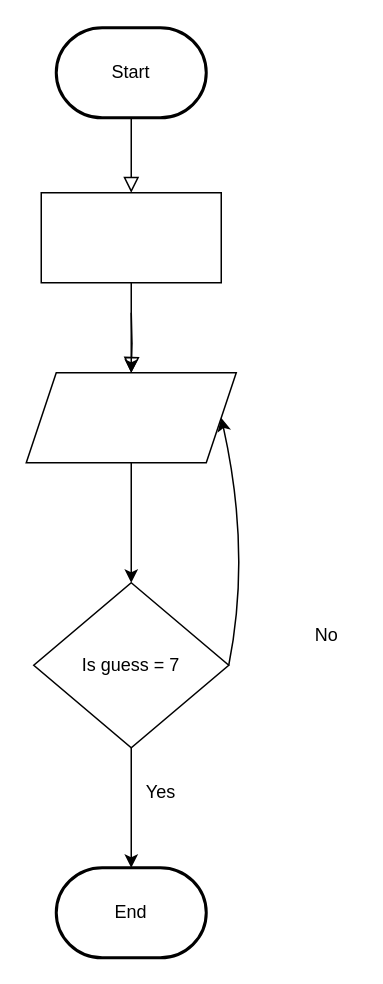
The diagram is 383 pixels wide and 984 high, and some of its shapes have lost their labels. Each missing label, with the box of its shape:
Ask user for number between 1 and 10: (25, 371, 236, 463)
secret = 7: (40, 191, 221, 283)
